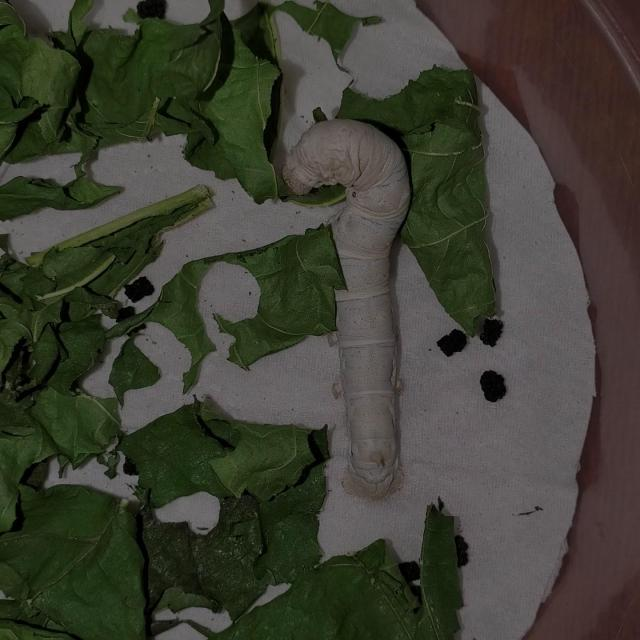Healthy: (252, 86, 456, 531)
